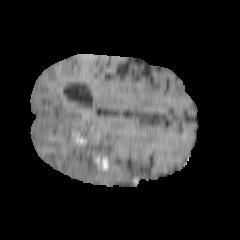glioma: (52, 110, 146, 183)
